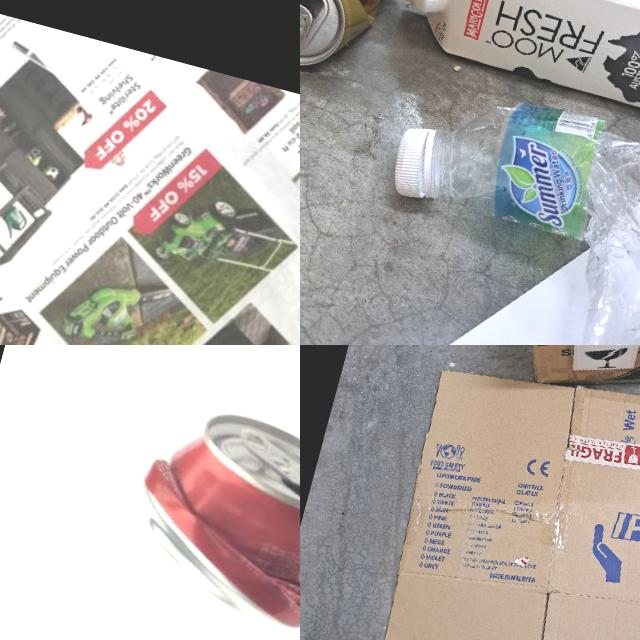aba de lata: (230, 425, 300, 488), (300, 0, 316, 54)
caixinha: (376, 0, 640, 133)
garrafa plástica: (357, 79, 640, 345)
lata: (117, 392, 300, 640), (300, 0, 414, 83)
papel: (0, 0, 300, 345), (395, 97, 640, 345)
papelão: (366, 345, 640, 640)
tampa plástica: (390, 119, 454, 204)
